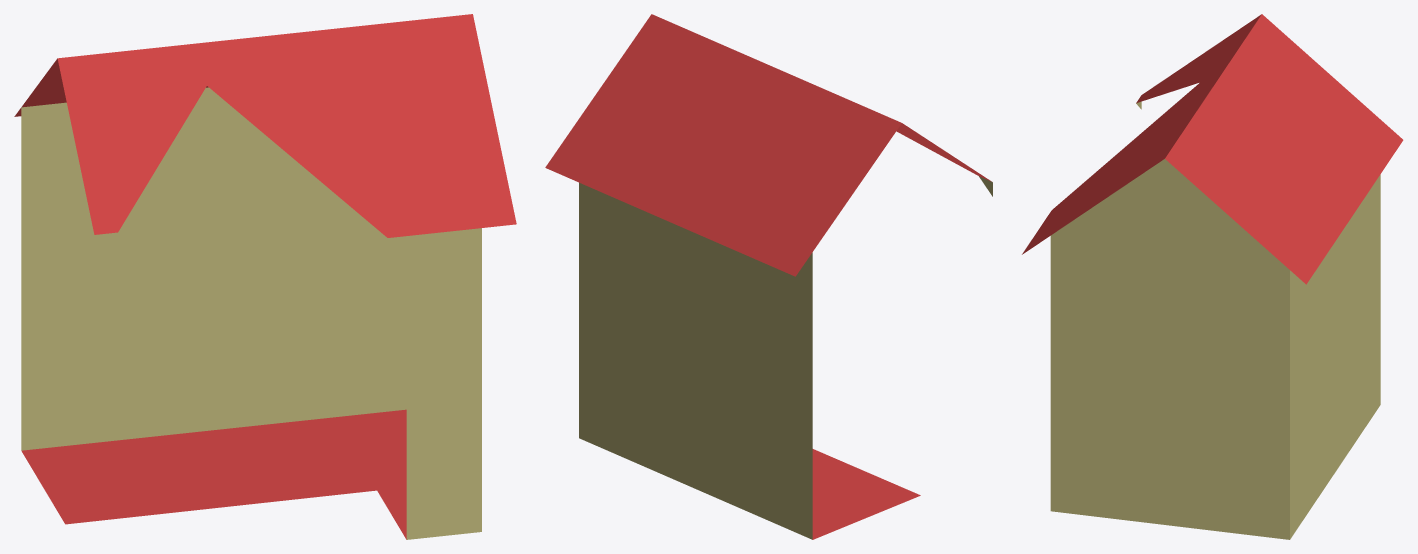
3 renders of one model, left to right at view 1: azimuth 30°, elevation 25°; view 2: azimuth 150°, elevation 25°; view 3: azimuth 270°, elevation 25°, orthographic. The views are drawn at different scales.
Bounding box in the file's own units: 13.12 × 12.02 × 13.08.
